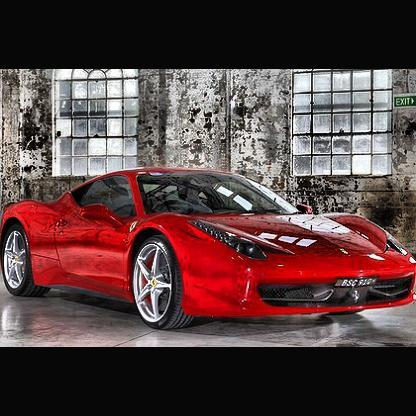Ferrari 458 Italia Coupe 2012: (2, 166, 416, 335)
